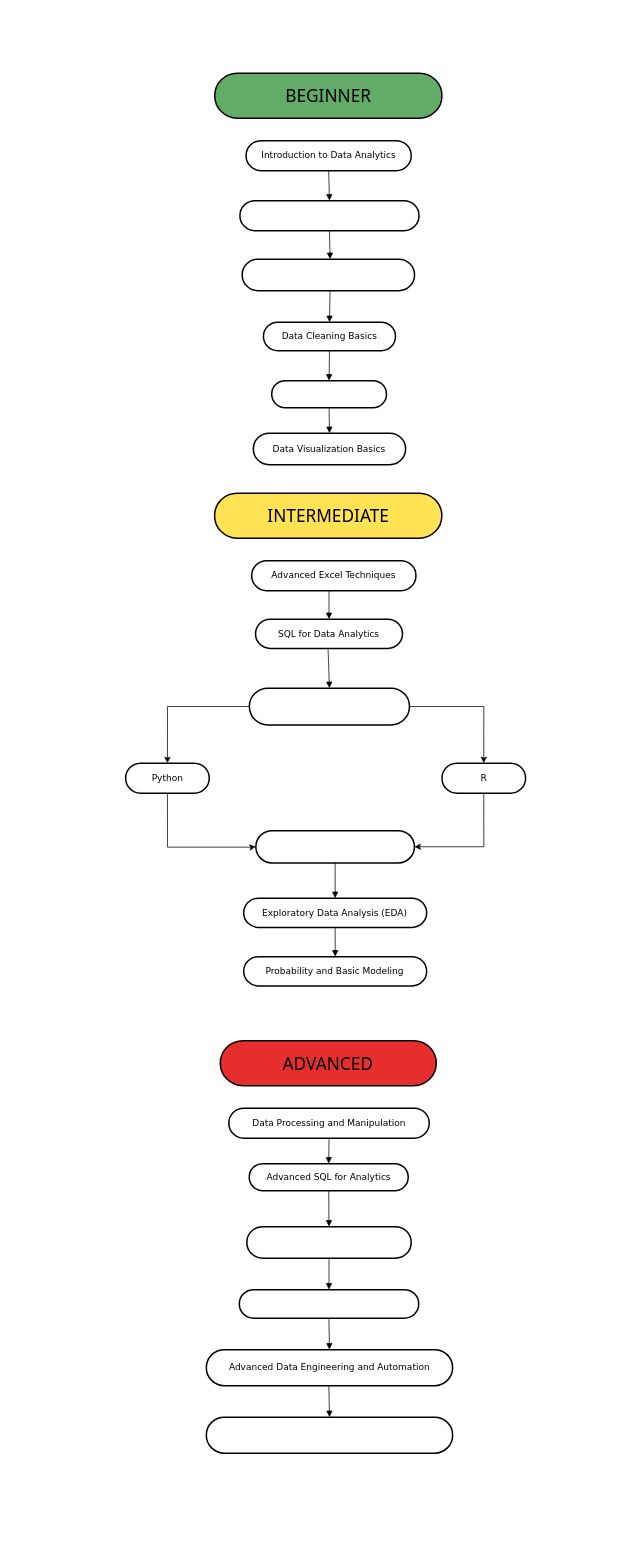
Image size: 642x1557. Some labels were removed from this diagram. The shapes that lost their labels are listed below. From the top down, each one's box as (x1, y1, x2, y2) in pixels, then its label:
(239, 200, 419, 231): Fundamentals of Statistics
(241, 258, 415, 291): Excel for Data Analytics
(271, 380, 387, 408): Introduction to SQL
(248, 687, 410, 725): Programming for Data Analysis
(255, 830, 415, 863): Data Wrangling and Cleaning
(246, 1226, 412, 1258): Advanced Data Visualization
(238, 1288, 419, 1318): Big Data Tools and Technologies
(205, 1416, 453, 1454): Advanced Statistical Analysis and Experimentation
